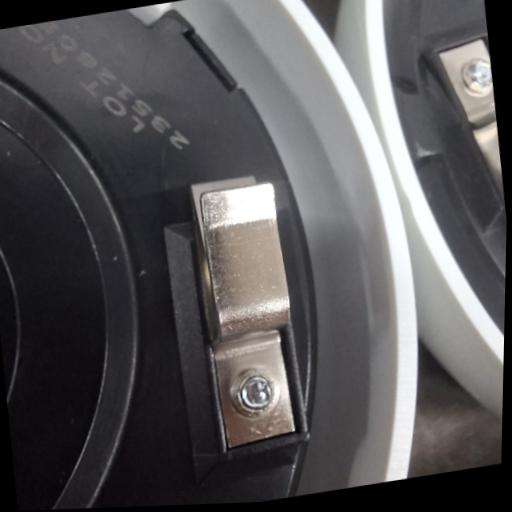yayli: (179, 173, 312, 455)
